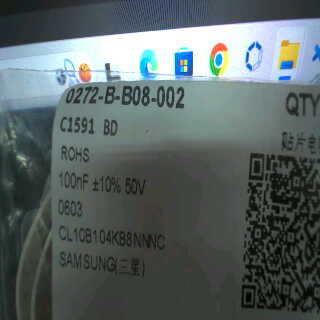100nF: (54, 171, 89, 191)
